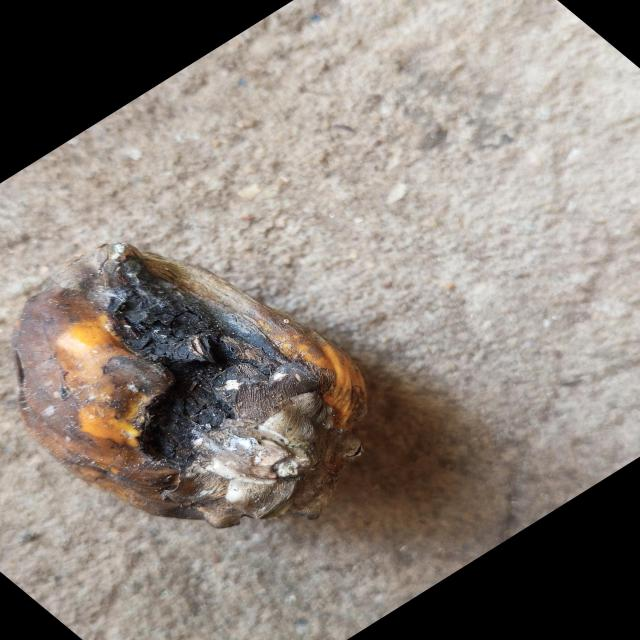damaged: (13, 248, 404, 533)
